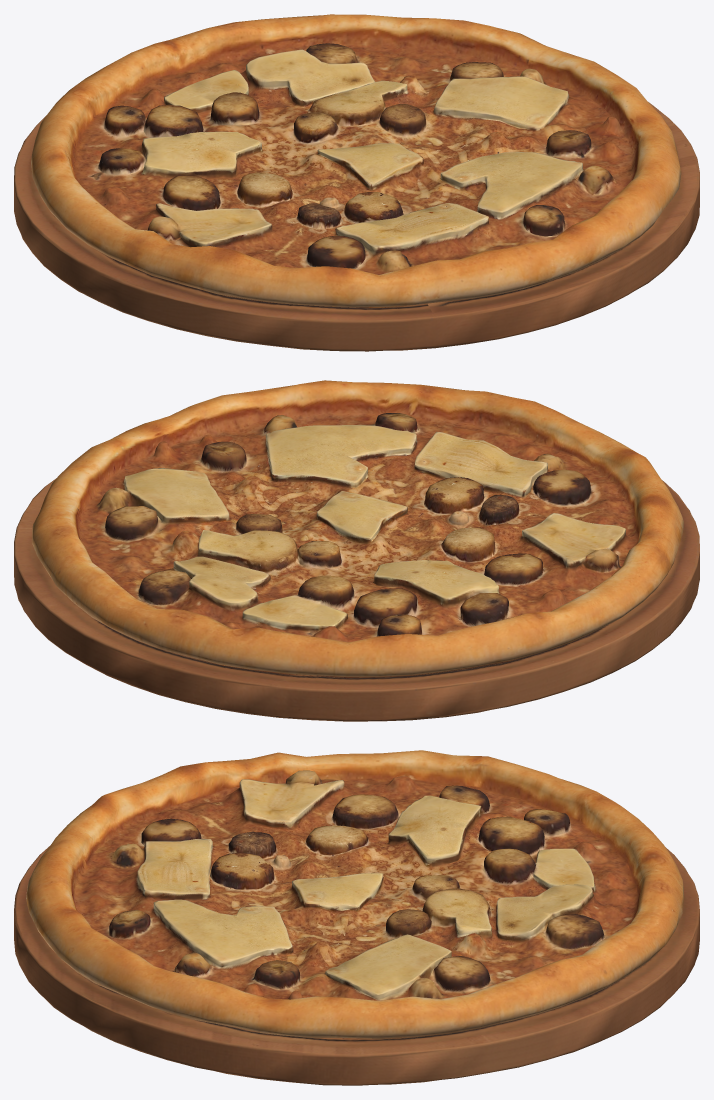
Rendered from pizza_bolognesa.fbx.
3 renders of one model, top to bottom at view 1: azimuth 30°, elevation 25°; view 2: azimuth 150°, elevation 25°; view 3: azimuth 270°, elevation 25°, orthographic.
Parts seen in each view (by area): view 1: meshes[0]; view 2: meshes[0]; view 3: meshes[0].
Part boxes in pixels (box(x1,y1,x2,y2)): meshes[0]: box(14, 14, 699, 351); meshes[0]: box(14, 380, 699, 721); meshes[0]: box(14, 750, 699, 1085).
Bounding box in the file's own units: 99.8 × 11.13 × 99.8.
Materials: 1 (1 with a texture image).
